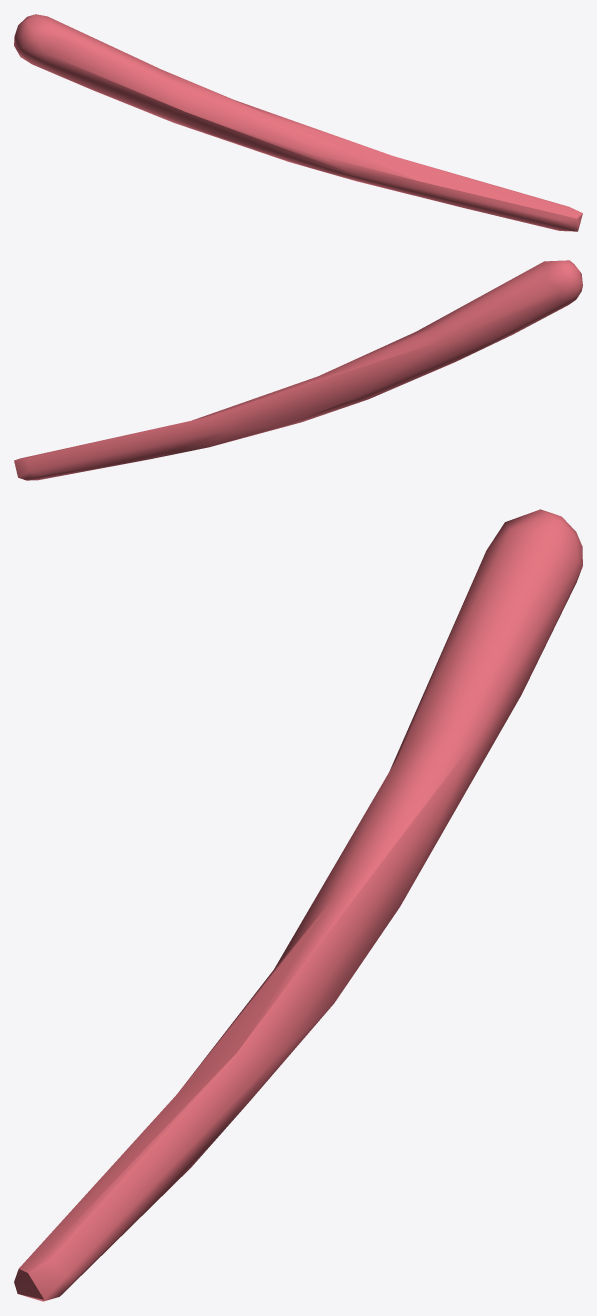
Rendered from fma8678_fj2960.glb.
3 renders of one model, top to bottom at view 1: azimuth 30°, elevation 25°; view 2: azimuth 210°, elevation 25°; view 3: azimuth 270°, elevation 25°, orthographic. The views are drawn at different scales.
Visible parts, largest first — view 1: FMA8678_FJ2960; view 2: FMA8678_FJ2960; view 3: FMA8678_FJ2960.
Part boxes in pixels (x1=…): FMA8678_FJ2960: x1=14, y1=14, x2=582, y2=231; FMA8678_FJ2960: x1=14, y1=260, x2=582, y2=480; FMA8678_FJ2960: x1=14, y1=509, x2=582, y2=1301.
Size of the model in its own units: 0.0286 by 0.0138 by 0.0171.
